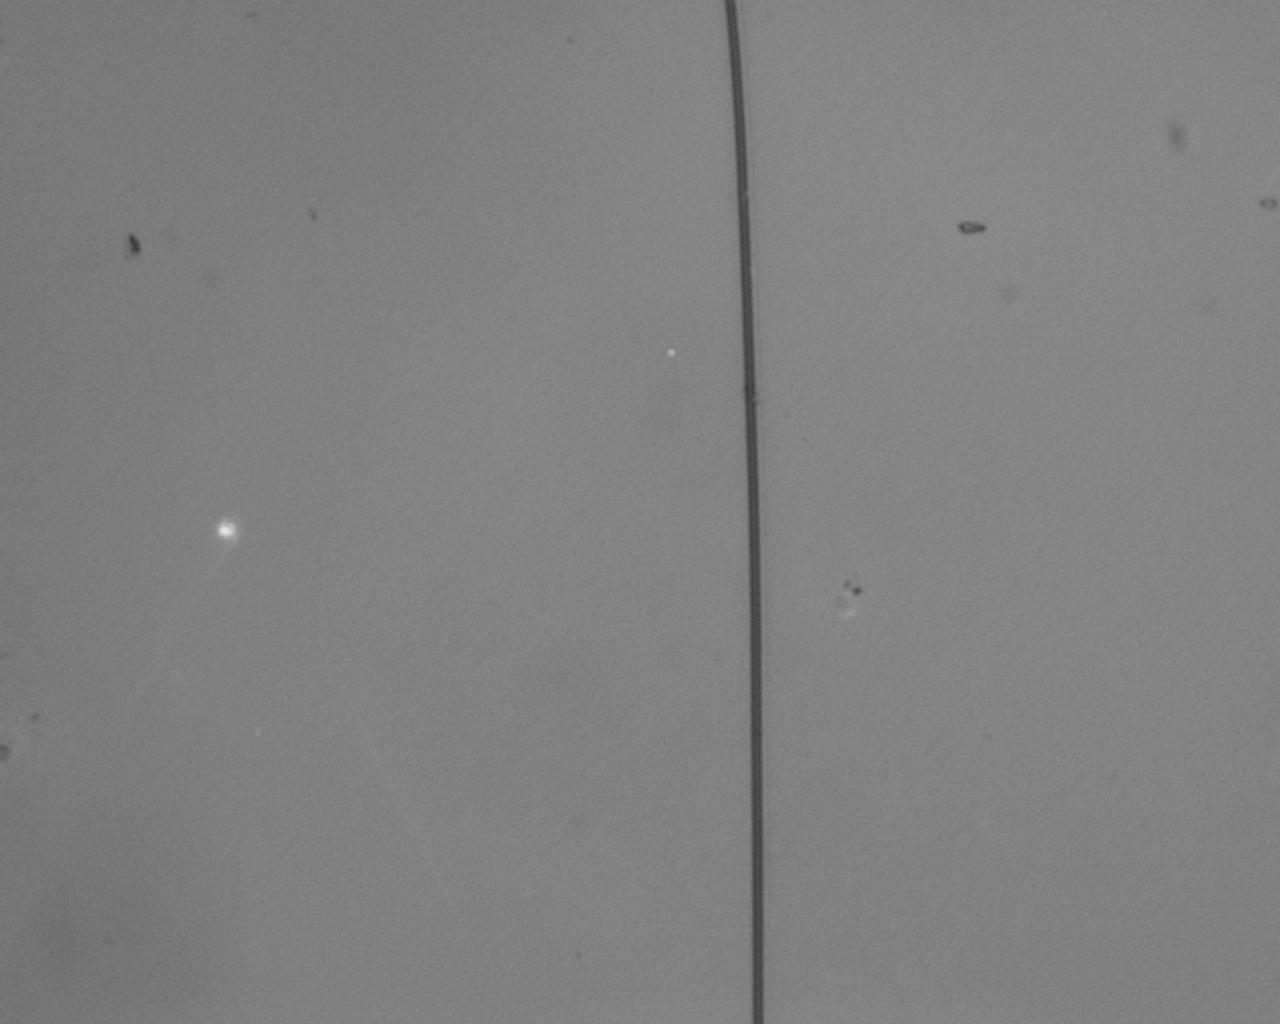fiber: (725, 0, 766, 1024)
